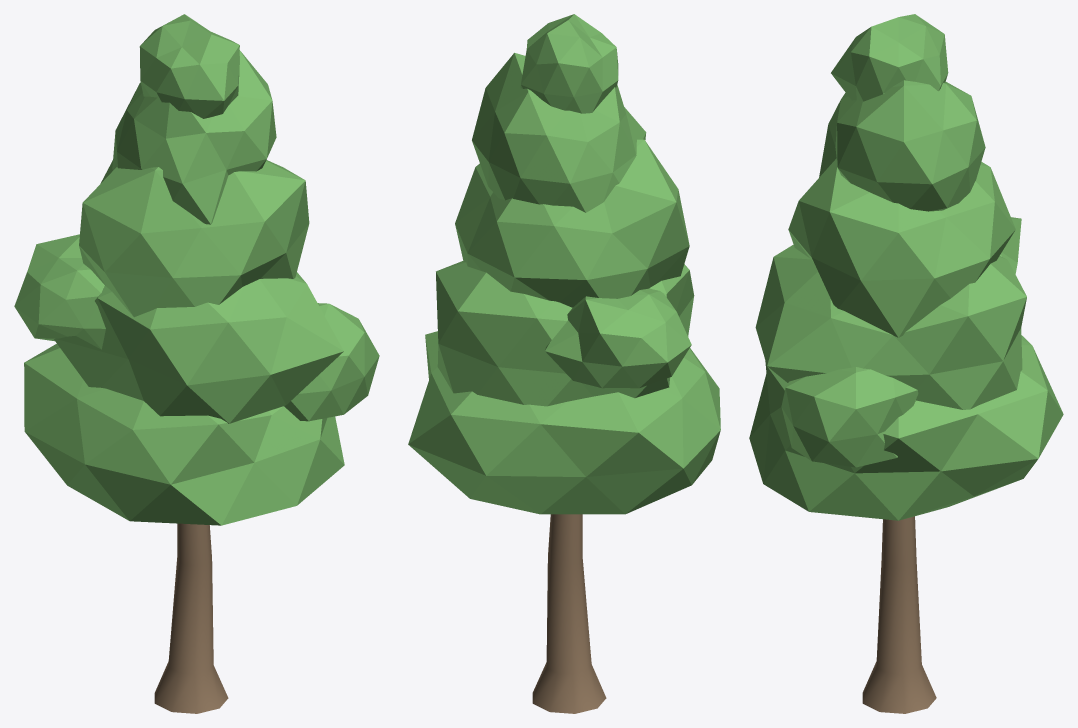
File: Tree_B.fbx
The picture shows the model from 3 angles, left to right: view 1: azimuth 30°, elevation 25°; view 2: azimuth 150°, elevation 25°; view 3: azimuth 270°, elevation 25°; orthographic projection.
Parts seen in each view (by area): view 1: Tree_B; view 2: Tree_B; view 3: Tree_B.
Part boxes in pixels (left/top/right/bottom): Tree_B: left=14, top=14, right=379, bottom=713; Tree_B: left=408, top=14, right=720, bottom=713; Tree_B: left=749, top=14, right=1063, bottom=713.
Size of the model in its own units: 3.23 by 7.08 by 2.96.
